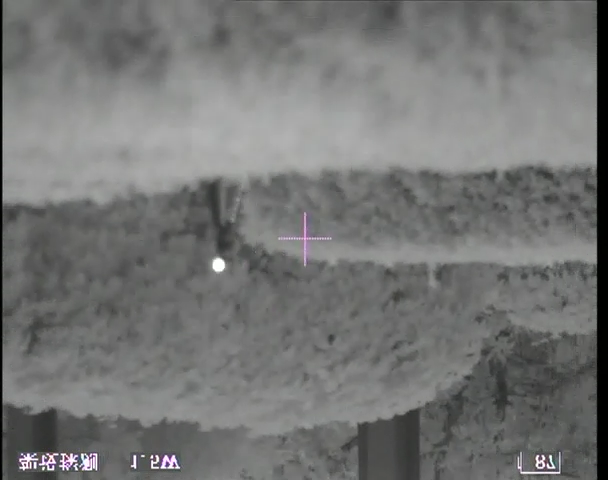my: (211, 257, 226, 274)
